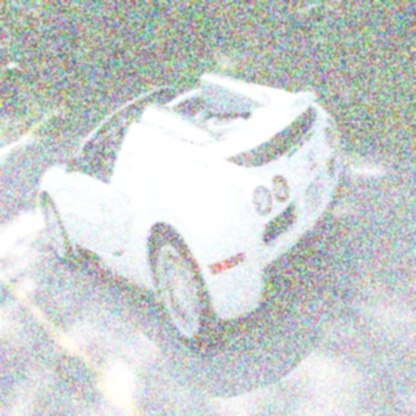Vehicle: (39, 71, 345, 351)
